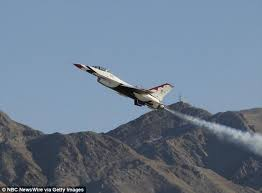fighter: (70, 61, 176, 112)
